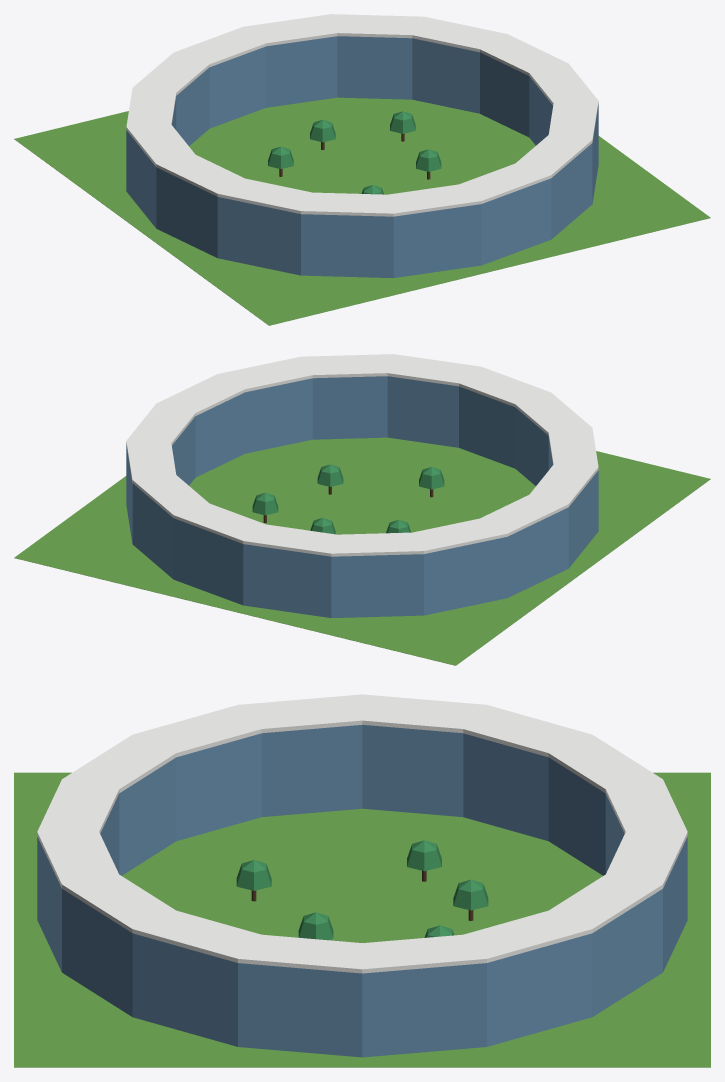
The model's file is siege_social.glb.
3 renders of one model, top to bottom at view 1: azimuth 30°, elevation 25°; view 2: azimuth 150°, elevation 25°; view 3: azimuth 270°, elevation 25°, orthographic. The views are drawn at different scales.
Parts seen in each view (by area): view 1: siege_social; view 2: siege_social; view 3: siege_social.
Boxes of the visible parts, left/top/right/bottom form: siege_social: left=14, top=14, right=710, bottom=325; siege_social: left=14, top=354, right=710, bottom=665; siege_social: left=14, top=694, right=710, bottom=1067.
Bounding box in the file's own units: 90 × 12.6 × 90.
1 material, 1 textured.
